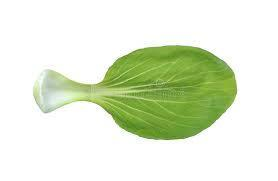Healthy-Pechay: (22, 26, 247, 149)
